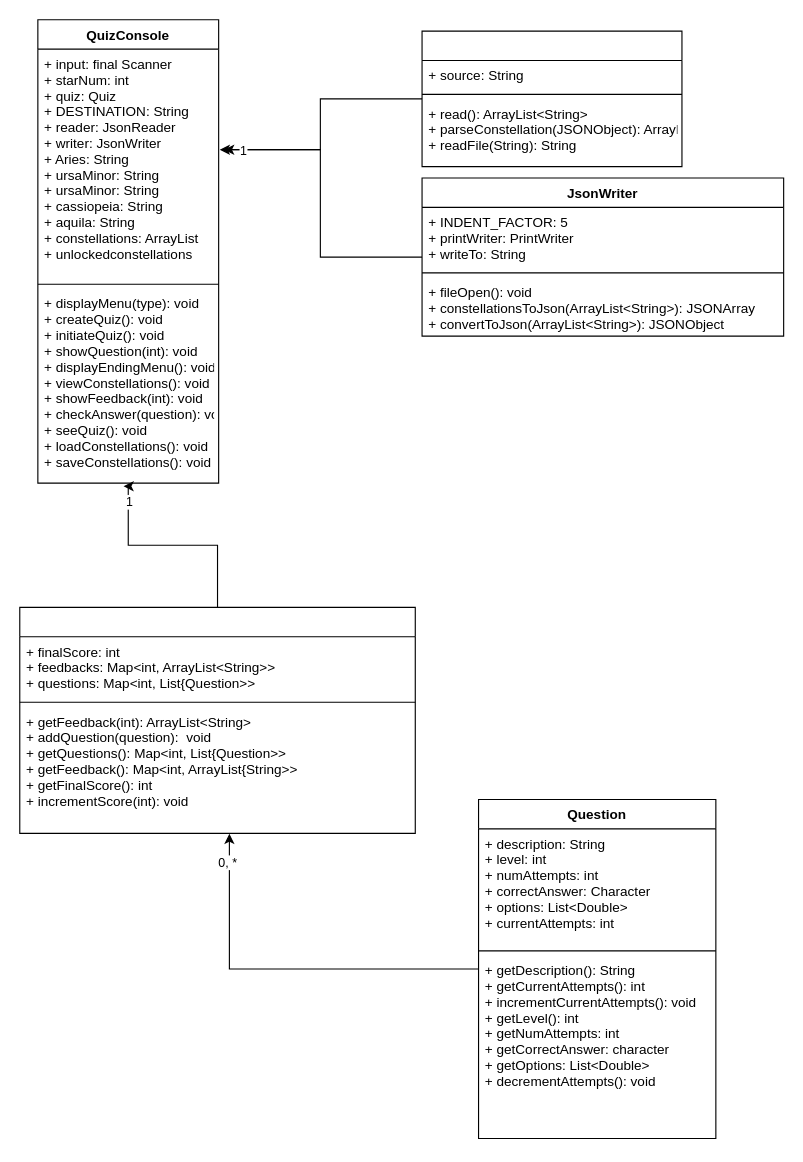
Image size: 803x1162. Some labels were removed from this diagram. The box of each missing label's shape, as (x1, y1, x2, y2) in pixels:
JsonReader: (421, 30, 682, 167)
Quiz: (19, 606, 415, 833)
